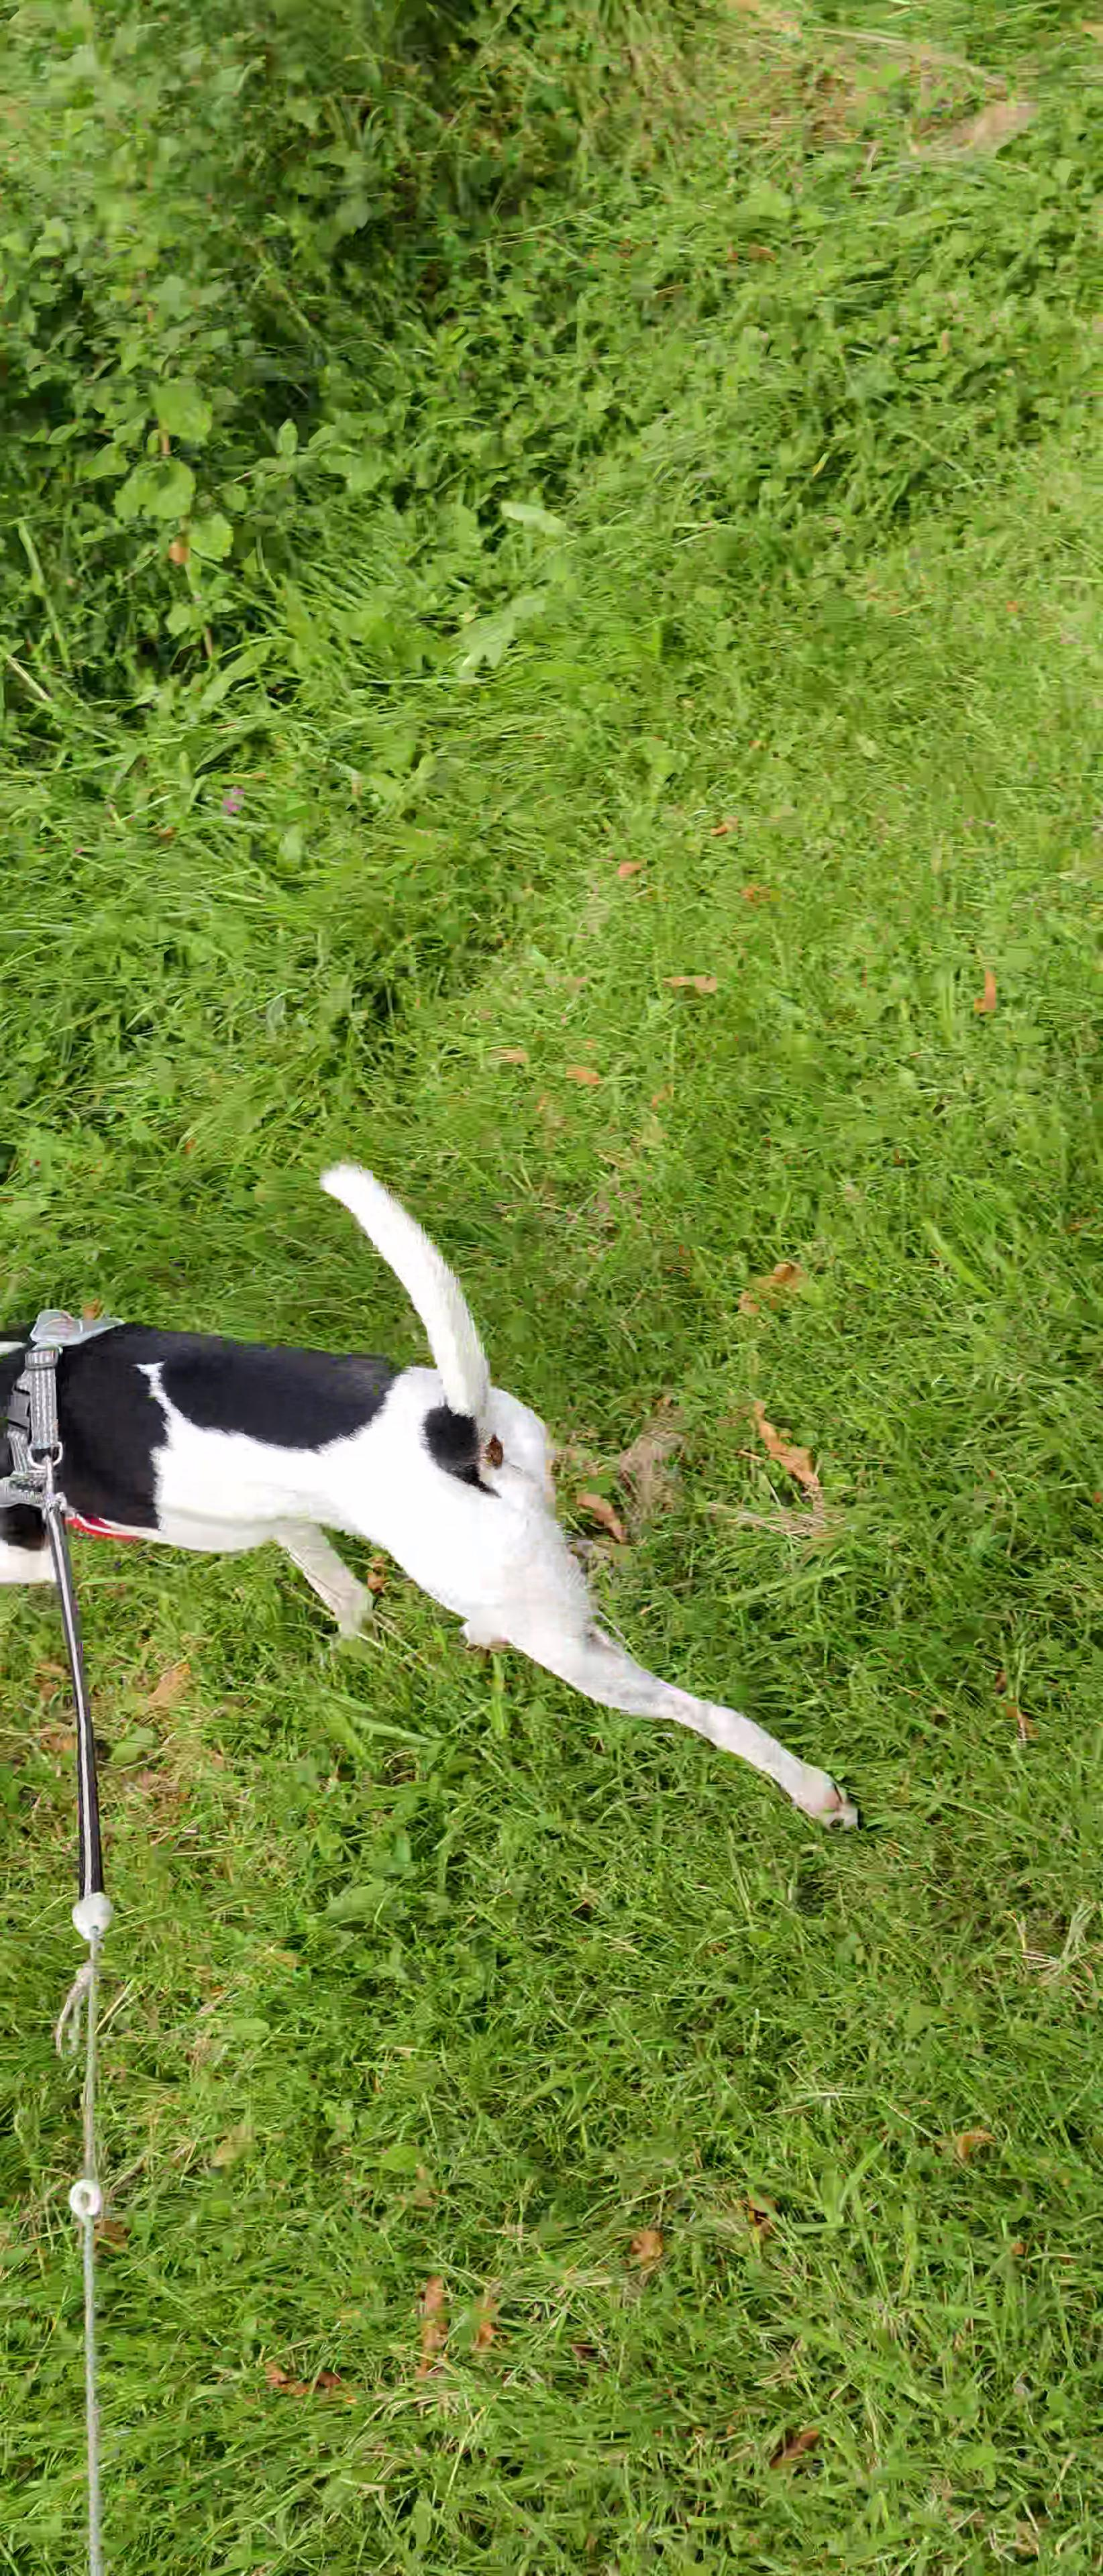Dog: (0, 1150, 866, 1838)
